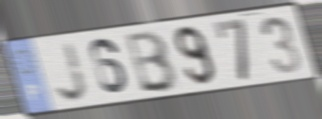3: (260, 15, 301, 75)
6: (88, 36, 131, 98)
7: (211, 16, 251, 84)
9: (174, 23, 218, 90)
B: (124, 28, 180, 95)
J: (53, 40, 90, 104)
